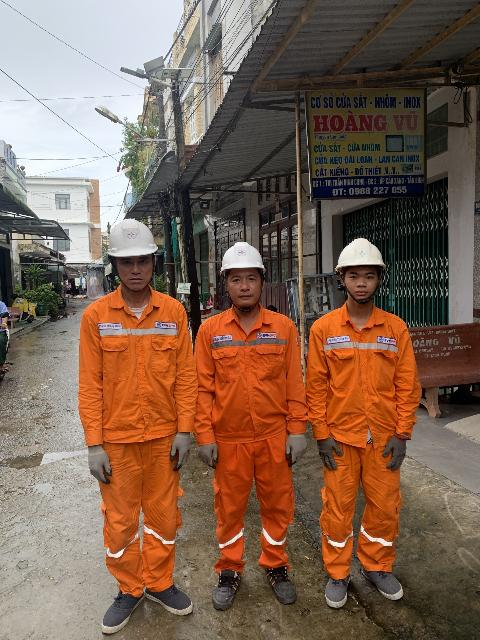harness: (80, 441, 117, 486), (315, 433, 349, 471), (386, 427, 409, 477), (167, 428, 193, 470), (288, 423, 310, 468), (196, 434, 220, 467)
helmet: (92, 216, 162, 263), (328, 230, 392, 279), (213, 234, 268, 282)
shoes: (146, 570, 193, 618), (251, 562, 301, 604), (102, 587, 142, 637), (207, 566, 244, 616), (362, 562, 408, 602), (327, 558, 353, 612)
